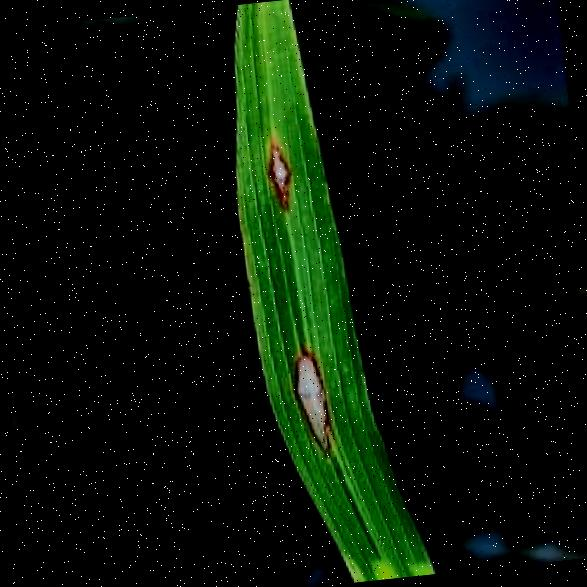Leaf_smut: (278, 330, 338, 458), (250, 134, 304, 214)
